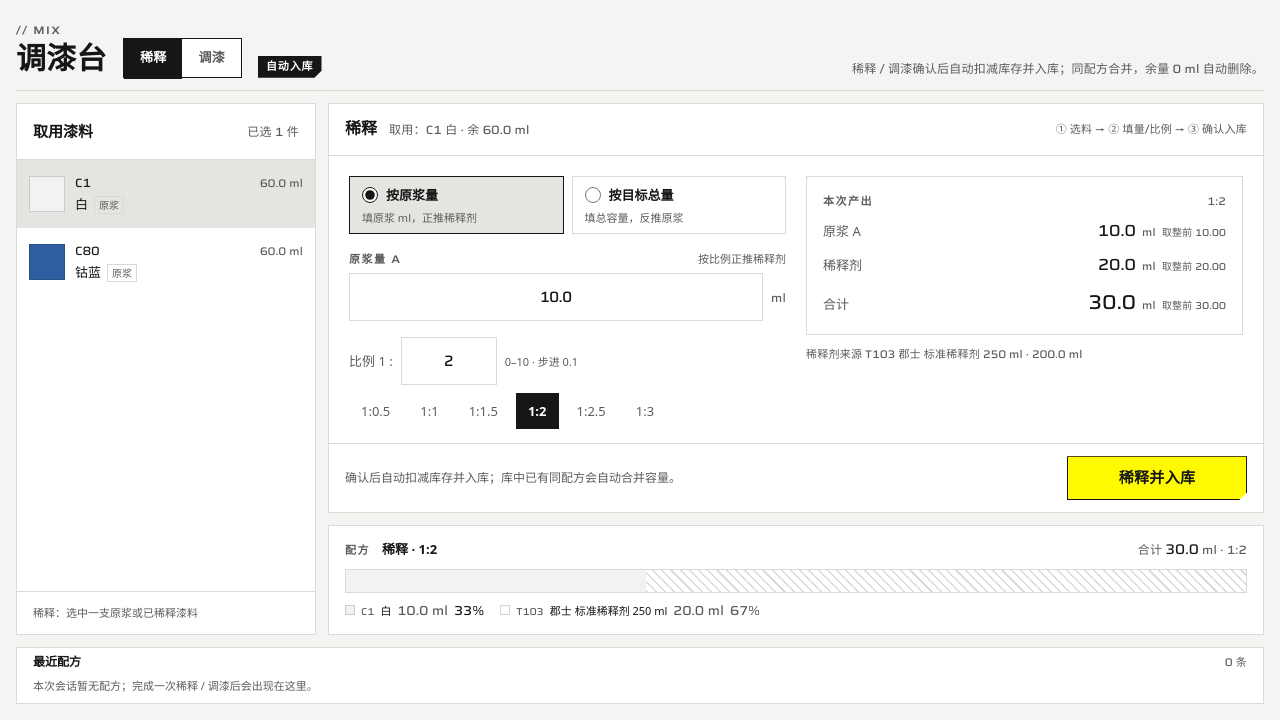
Test: 稀释模式：确认后自动扣减 + 自动入库 › 比例超出 0–10 被钳制并提示
Expected: the heading "取用漆料" is shown, [33,122,93,141]
Replace the text in the field named "比例 N" with "20" at x=449, y=361, box [401,337,497,385]
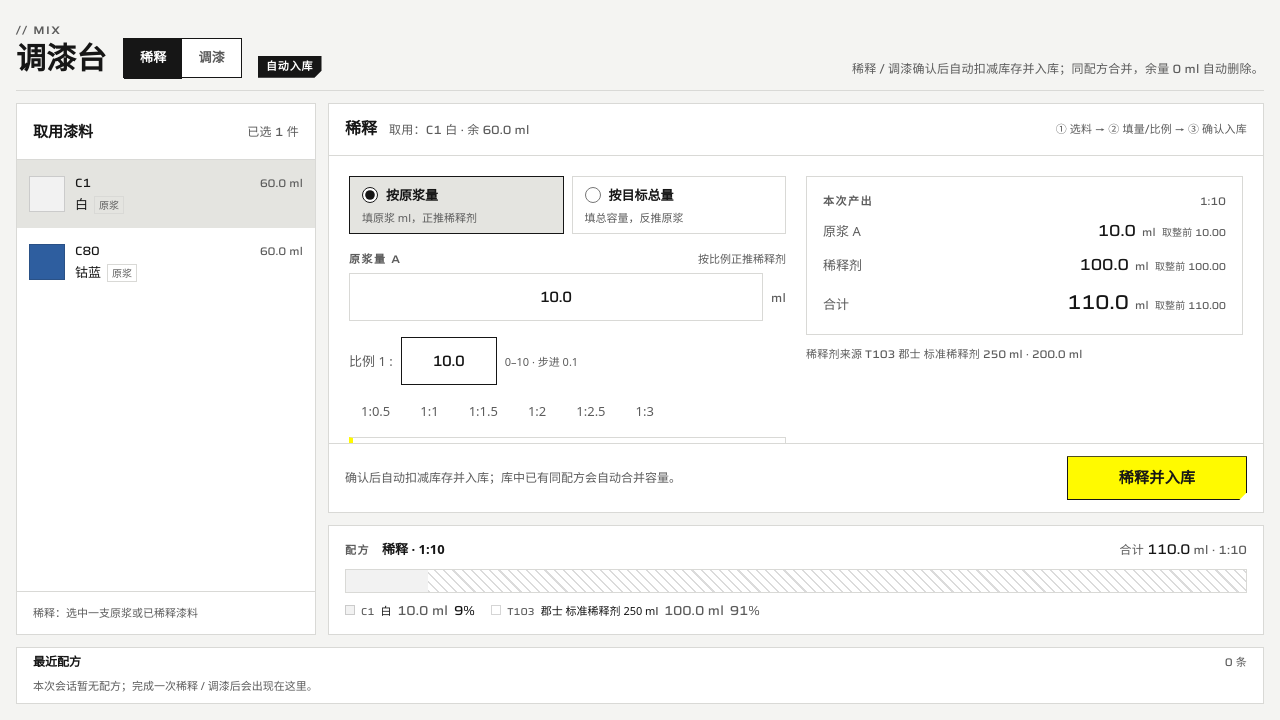
Now the field named "比例 N" holds "10.0", box [401,337,497,385]
